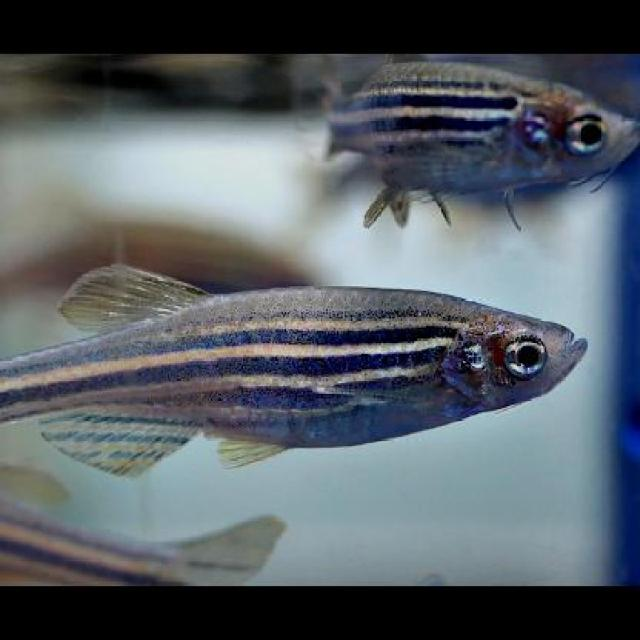ZebraFish: (0, 258, 588, 477)
